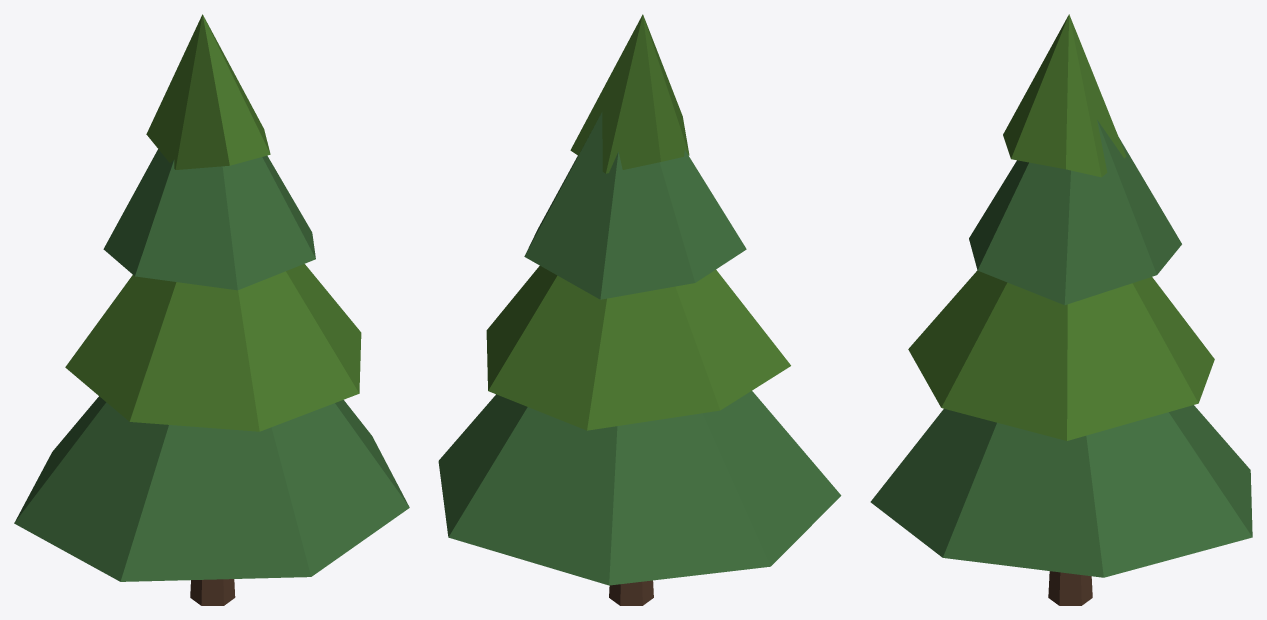
Rendered from SM_Pine_Tree_Small.glb.
3 renders of one model, left to right at view 1: azimuth 30°, elevation 25°; view 2: azimuth 150°, elevation 25°; view 3: azimuth 270°, elevation 25°, orthographic.
Visible parts, largest first — view 1: SM_Pine_Tree_Small; view 2: SM_Pine_Tree_Small; view 3: SM_Pine_Tree_Small.
Boxes of the visible parts, x1,y1,x2,y2 form: SM_Pine_Tree_Small: (14,14,409,605); SM_Pine_Tree_Small: (438,14,841,605); SM_Pine_Tree_Small: (870,14,1252,605).
Bounding box in the file's own units: 1.17 × 1.9 × 1.14.
Materials: 1 (1 with a texture image).
